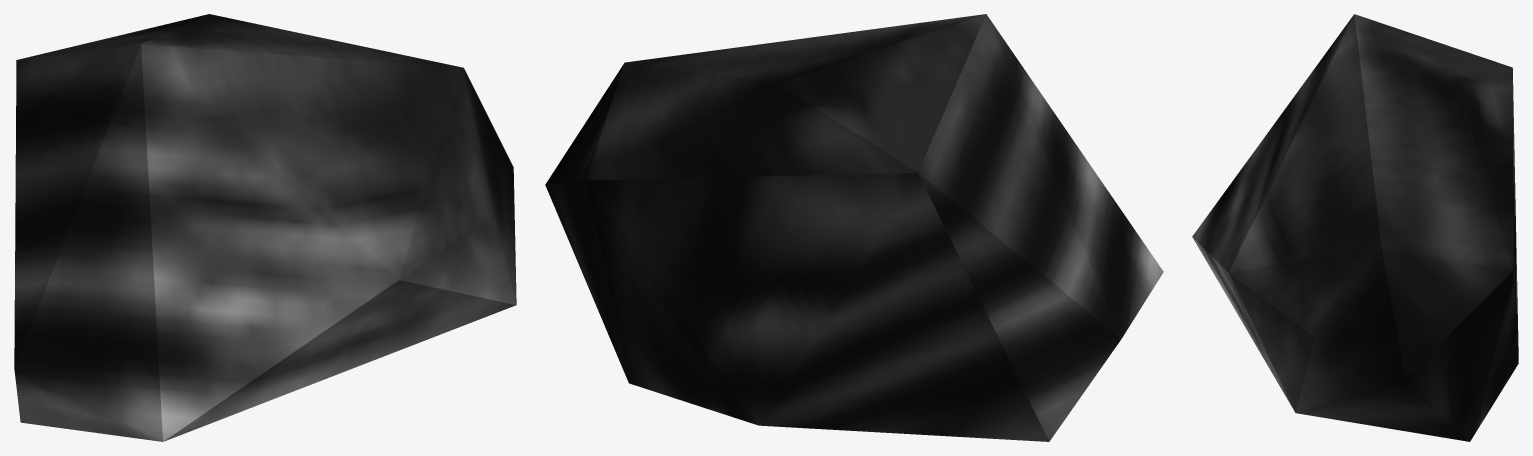
Rendered from R_Hand.obj.
3 renders of one model, left to right at view 1: azimuth 30°, elevation 25°; view 2: azimuth 150°, elevation 25°; view 3: azimuth 270°, elevation 25°, orthographic. The views are drawn at different scales.
Visible parts, largest first — view 1: R_Hand; view 2: R_Hand; view 3: R_Hand.
Part boxes in pixels (x1=…): R_Hand: x1=14, y1=14, x2=516, y2=441; R_Hand: x1=545, y1=14, x2=1163, y2=441; R_Hand: x1=1192, y1=14, x2=1518, y2=441.
Bounding box in the file's own units: 0.3859 × 0.2634 × 0.248.
